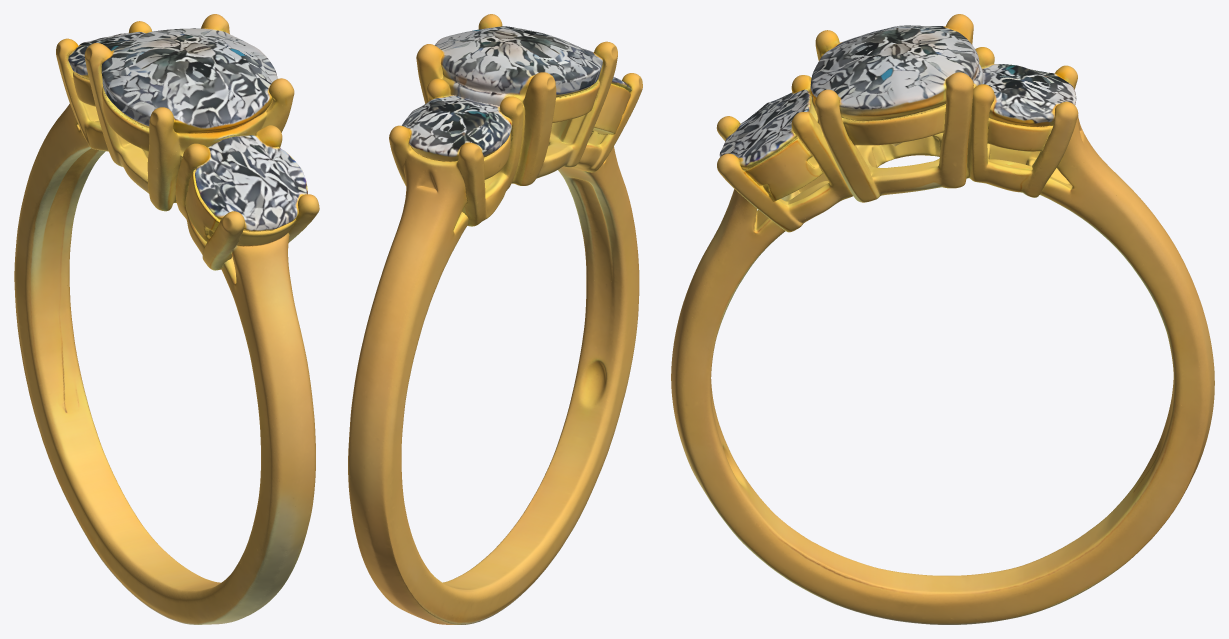
The model's file is ring-tres-piedras.glb.
The picture shows the model from 3 angles, left to right: view 1: azimuth 30°, elevation 25°; view 2: azimuth 150°, elevation 25°; view 3: azimuth 270°, elevation 25°; orthographic projection. The views are drawn at different scales.
Parts seen in each view (by area): view 1: model; view 2: model; view 3: model.
Boxes of the visible parts, box(x1,y1,x2,y2) form: model: box(14, 14, 319, 624); model: box(348, 14, 642, 624); model: box(671, 14, 1214, 624).
Size of the model in its own units: 0.5341 by 1.9 by 1.62.
1 material, 1 textured.
